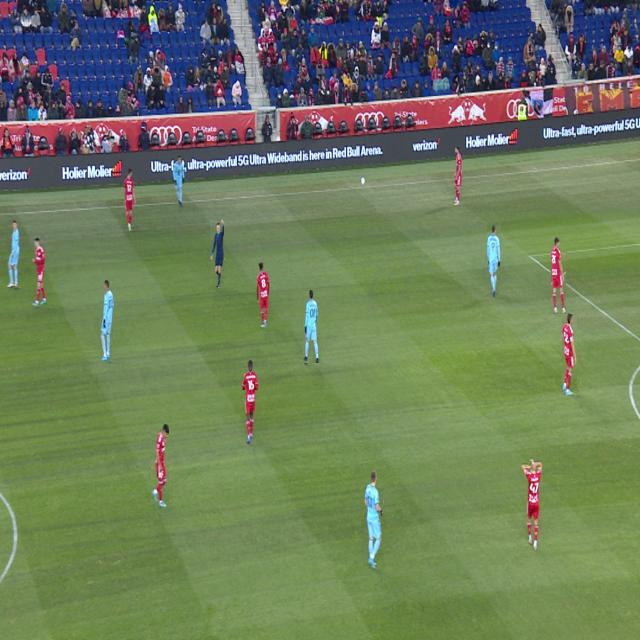football: (361, 177, 365, 185)
player: (521, 460, 542, 551), (365, 471, 383, 569), (152, 424, 169, 508), (242, 361, 258, 443), (562, 314, 577, 395), (551, 238, 566, 313), (304, 291, 319, 363), (101, 281, 114, 361), (487, 225, 501, 296), (32, 238, 46, 306), (7, 220, 20, 288), (124, 168, 137, 231), (257, 263, 269, 328), (173, 156, 185, 209), (454, 145, 462, 206)
referee: (211, 220, 224, 289)
